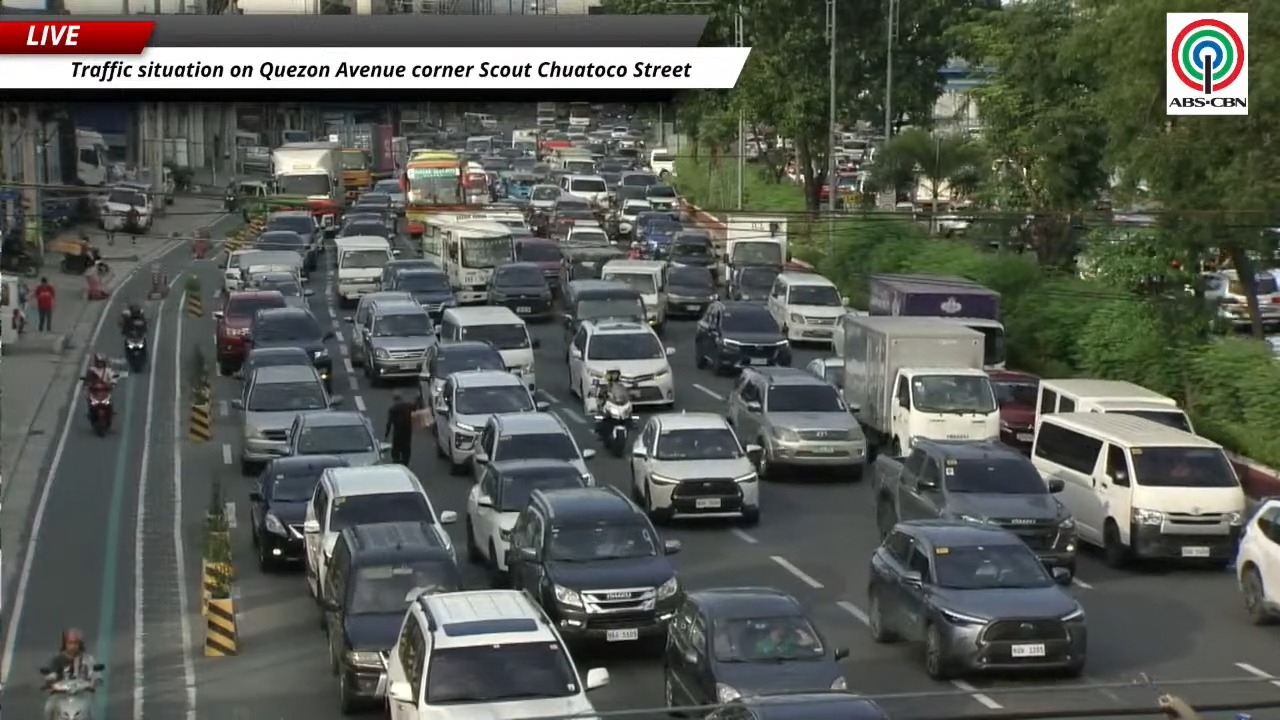bus: (421, 213, 514, 303), (401, 150, 465, 235), (568, 102, 593, 127)
car: (867, 520, 1086, 679), (387, 590, 607, 718), (506, 487, 681, 642), (323, 522, 462, 713), (663, 588, 848, 707), (304, 464, 456, 602), (727, 366, 867, 479), (466, 459, 584, 583), (630, 413, 760, 524), (430, 370, 548, 473), (232, 366, 342, 474), (250, 455, 345, 571), (568, 322, 674, 414), (563, 251, 646, 361), (472, 412, 594, 484), (439, 306, 540, 390), (353, 300, 437, 386), (694, 301, 791, 373), (249, 307, 335, 381), (213, 291, 286, 375), (284, 410, 389, 466), (418, 340, 505, 407), (766, 273, 847, 343), (1235, 499, 1279, 624), (343, 290, 412, 367), (706, 690, 888, 719), (988, 371, 1039, 453), (383, 268, 456, 322), (487, 262, 554, 318), (264, 210, 320, 270), (253, 229, 313, 276), (664, 265, 718, 317), (515, 237, 561, 292), (238, 347, 312, 379), (249, 271, 312, 307), (663, 228, 717, 269), (726, 265, 781, 303), (378, 258, 440, 290), (805, 357, 843, 396), (615, 198, 651, 236), (373, 179, 405, 213), (339, 219, 395, 238), (561, 224, 609, 246), (528, 184, 561, 212), (353, 190, 391, 212), (343, 208, 386, 227), (619, 171, 659, 187)
motorcycle: (593, 390, 634, 457), (86, 386, 113, 436), (125, 333, 147, 372), (93, 663, 104, 672)
truck: (870, 439, 1077, 574), (840, 315, 998, 455), (868, 274, 1005, 368), (271, 142, 342, 234), (326, 123, 401, 191), (717, 214, 788, 278)
